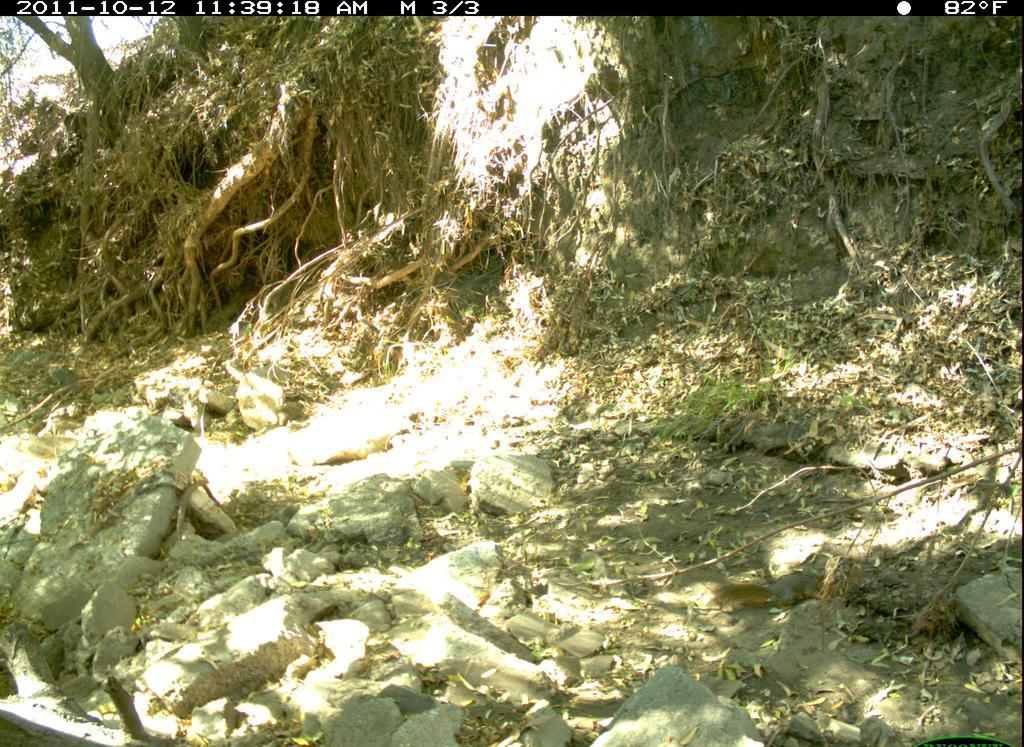squirrel: (704, 560, 833, 623)
